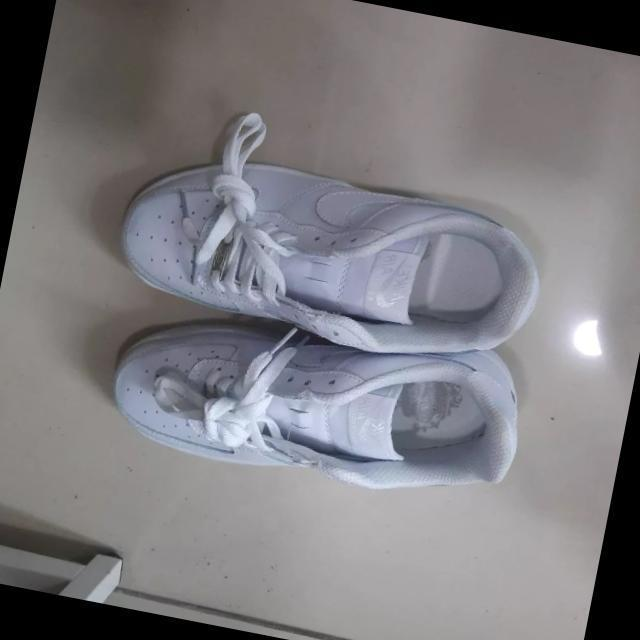nike fake air force: (109, 131, 558, 391), (90, 279, 554, 526)
